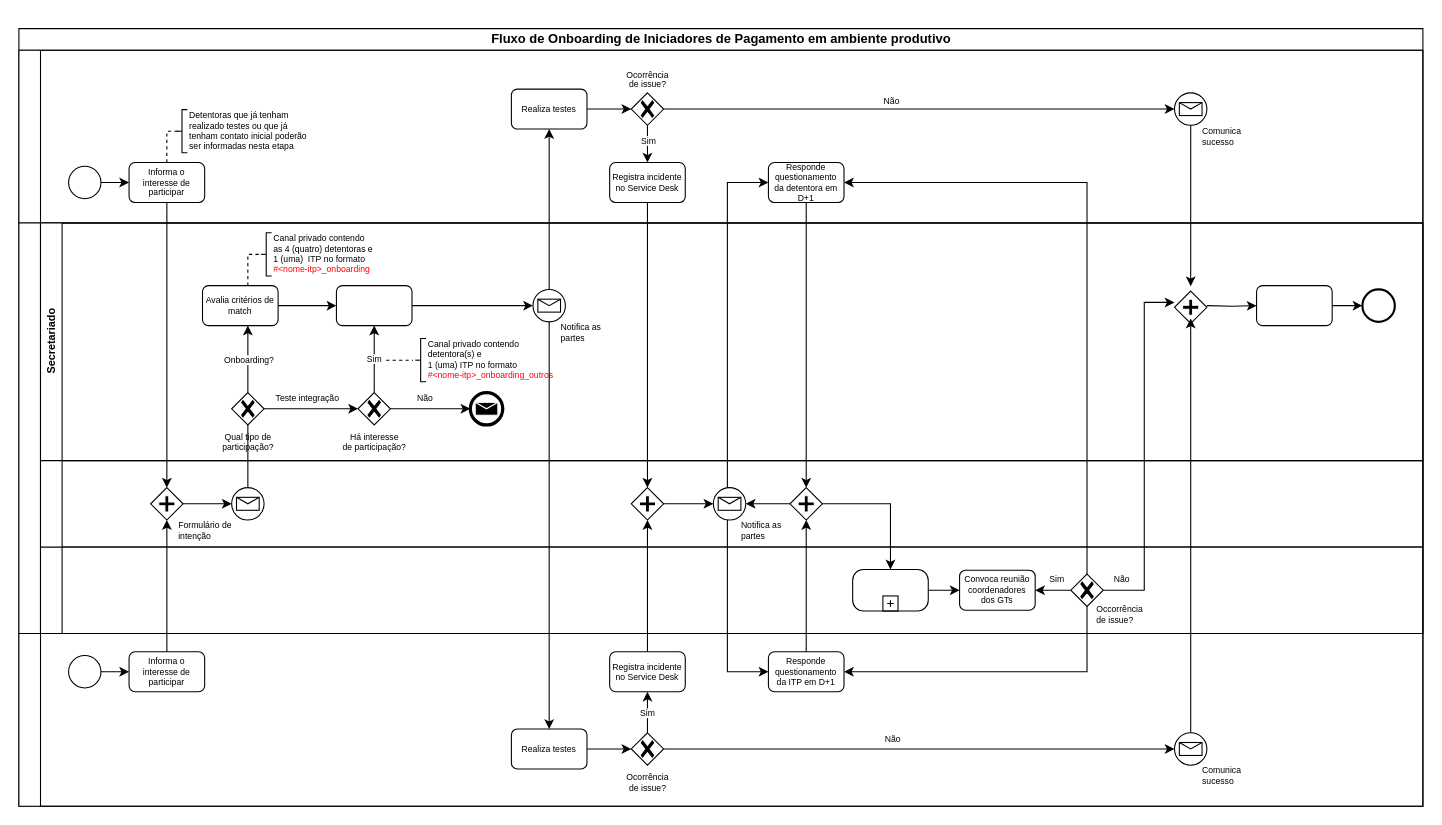
Some shapes in this 1442 by 825 pixel diagram are drawn without their labels. The shapes that lost their labels are listed below. From the top down, each one's box as (x1, y1, x2, y2) in pixels, then its label:
(18, 49, 1423, 223): Iniciadora
(335, 285, 412, 326): Cria canal no Slack e inclui participantes
(1173, 290, 1207, 323): Sucesso nas 4 detentoras
(1256, 285, 1332, 326): Comunica ao ecossistema resultado do onboarding da ITP
(469, 392, 503, 425): Notifica ITP e/ou detentora falta de interesse
(18, 222, 1423, 633): Estrutura Central
(231, 487, 264, 520): Notifica interesse
(39, 460, 1423, 547): Servide Desk
(39, 546, 1423, 633): GT Arquitetura
(852, 568, 928, 611): Análisa ticktes do Service Desk
(18, 632, 1423, 806): Detentora
